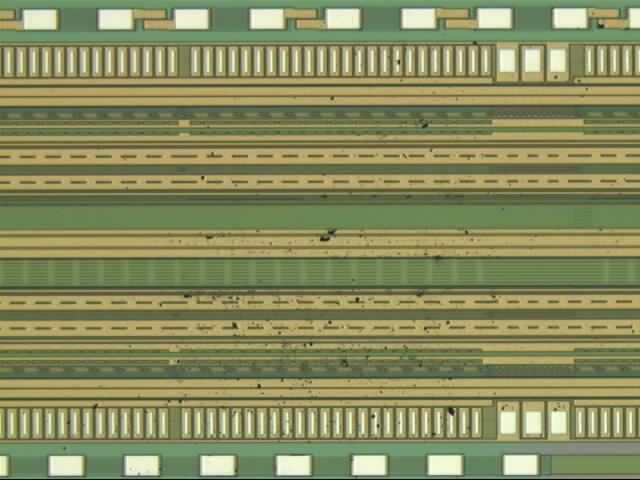PO CONTAMINATION: (56, 7, 640, 458)
